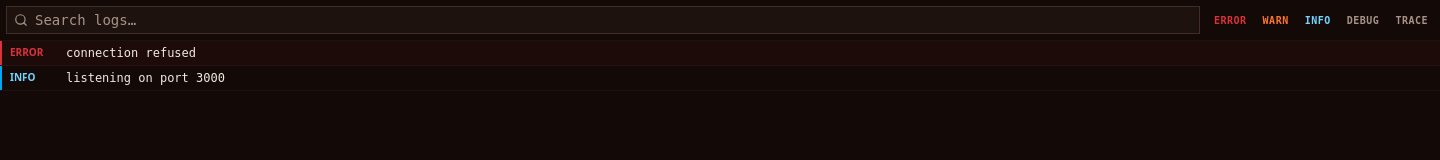
shows only that level when a chip is clicked
This screenshot has width=1440, height=160.
Click the button "ERROR" at [1230, 20], box [1208,10,1253,30]
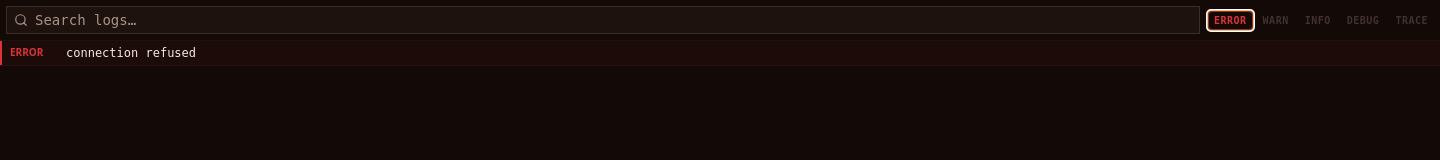
Expected: the text "connection refused" is shown, [66,46,196,60]
Expected: the text "listening on port 3000" is gone
